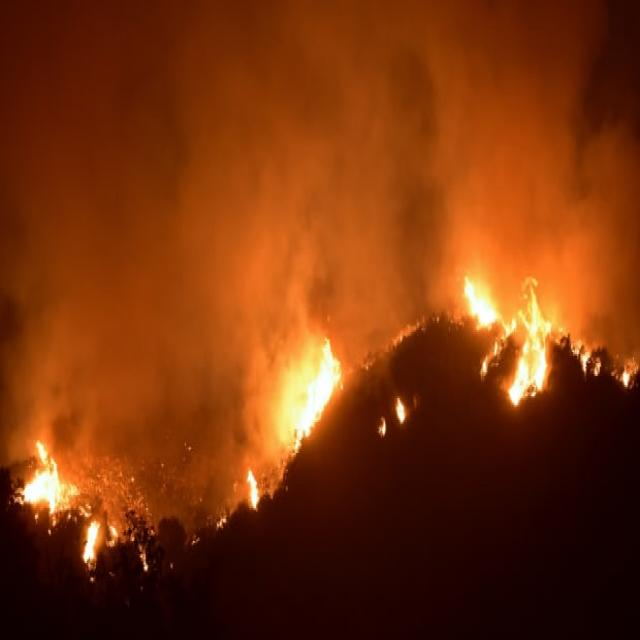Fire: (466, 279, 554, 402), (278, 337, 344, 469), (13, 440, 93, 524)
